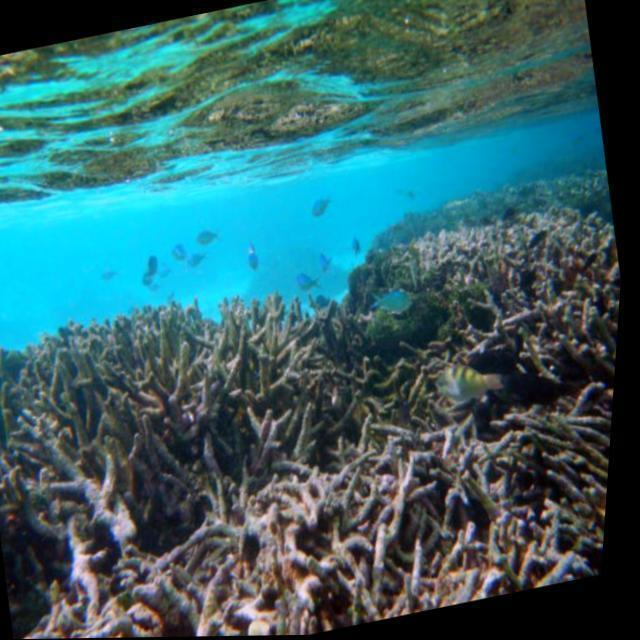Dead Coral: (0, 204, 629, 640)
